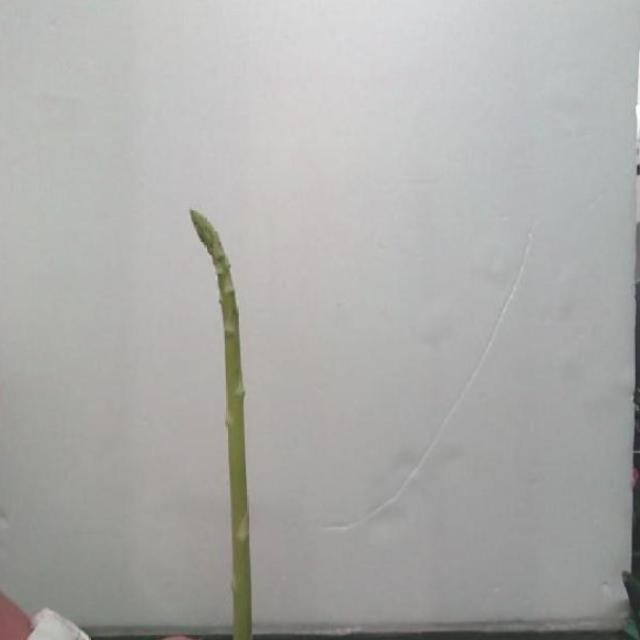aspargus: (188, 211, 251, 640)
